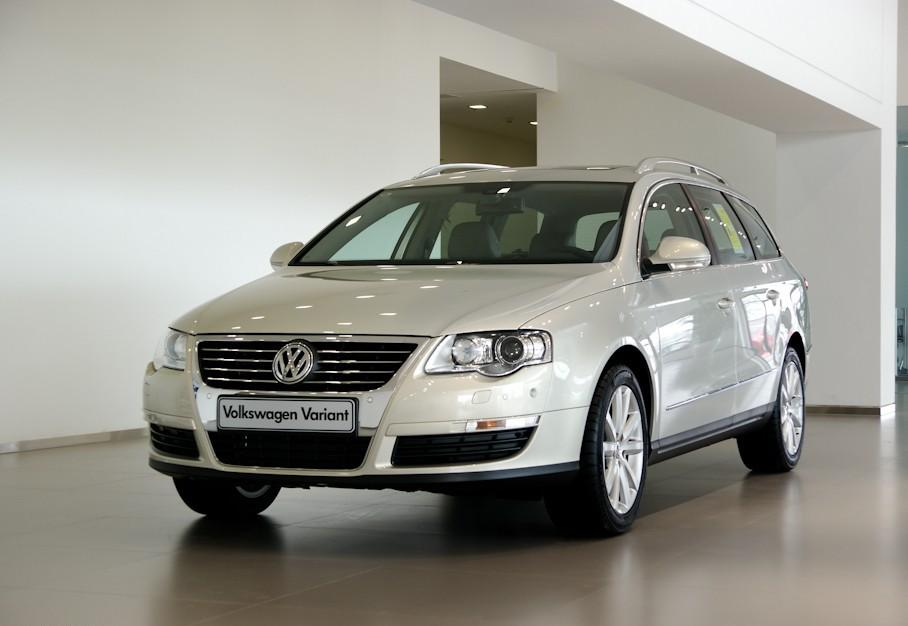Wagon: (141, 163, 814, 542)
